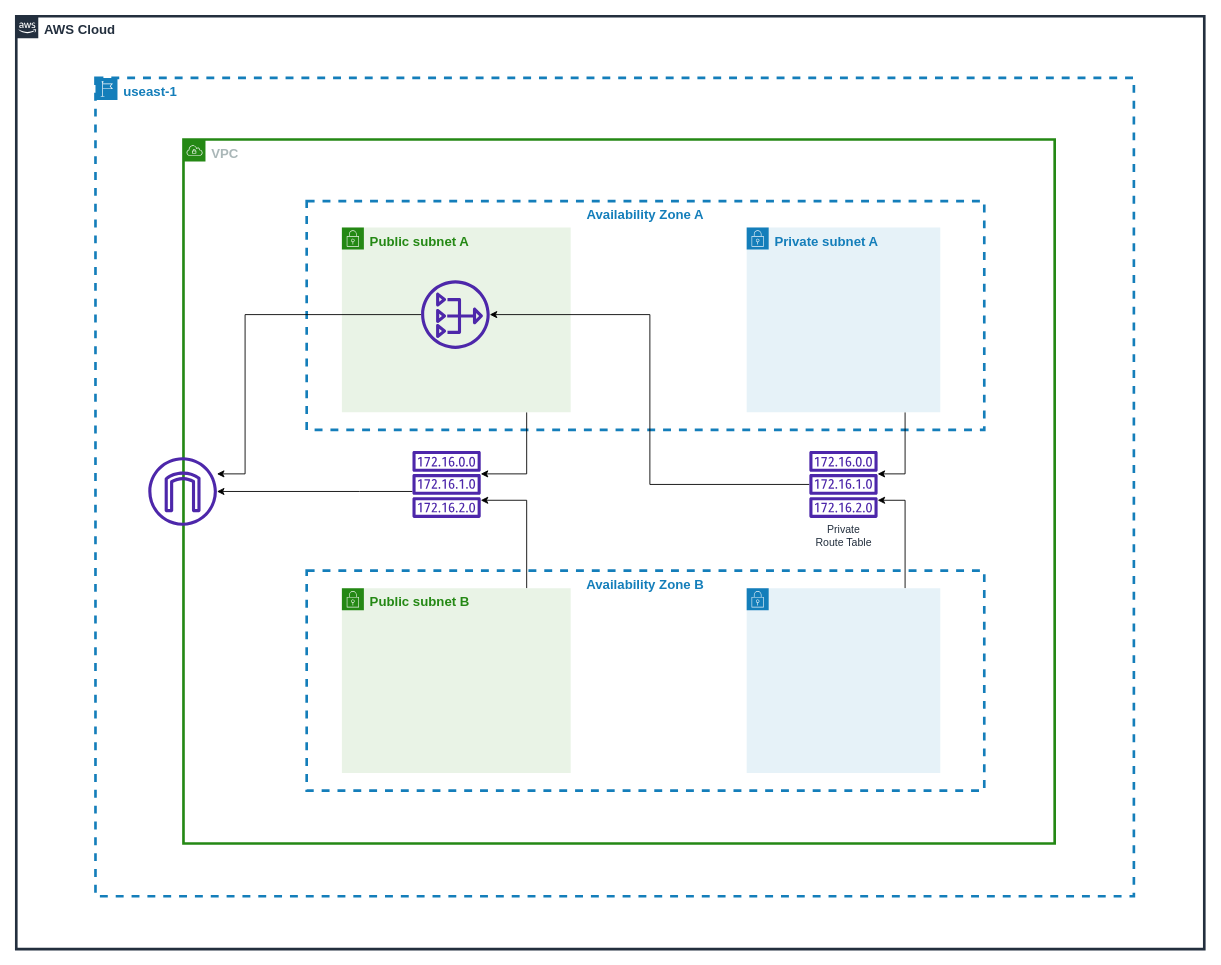
Image size: 1221x965. Some labels were removed from this diagram. Here are the shapes that lost their labels. From the top down, the centre of each, then its label:
the point at 455,314: NAT gateway
the point at 182,491: Internet Gateway
the point at 446,484: Public Route Table
the point at 843,680: Private subnet B
